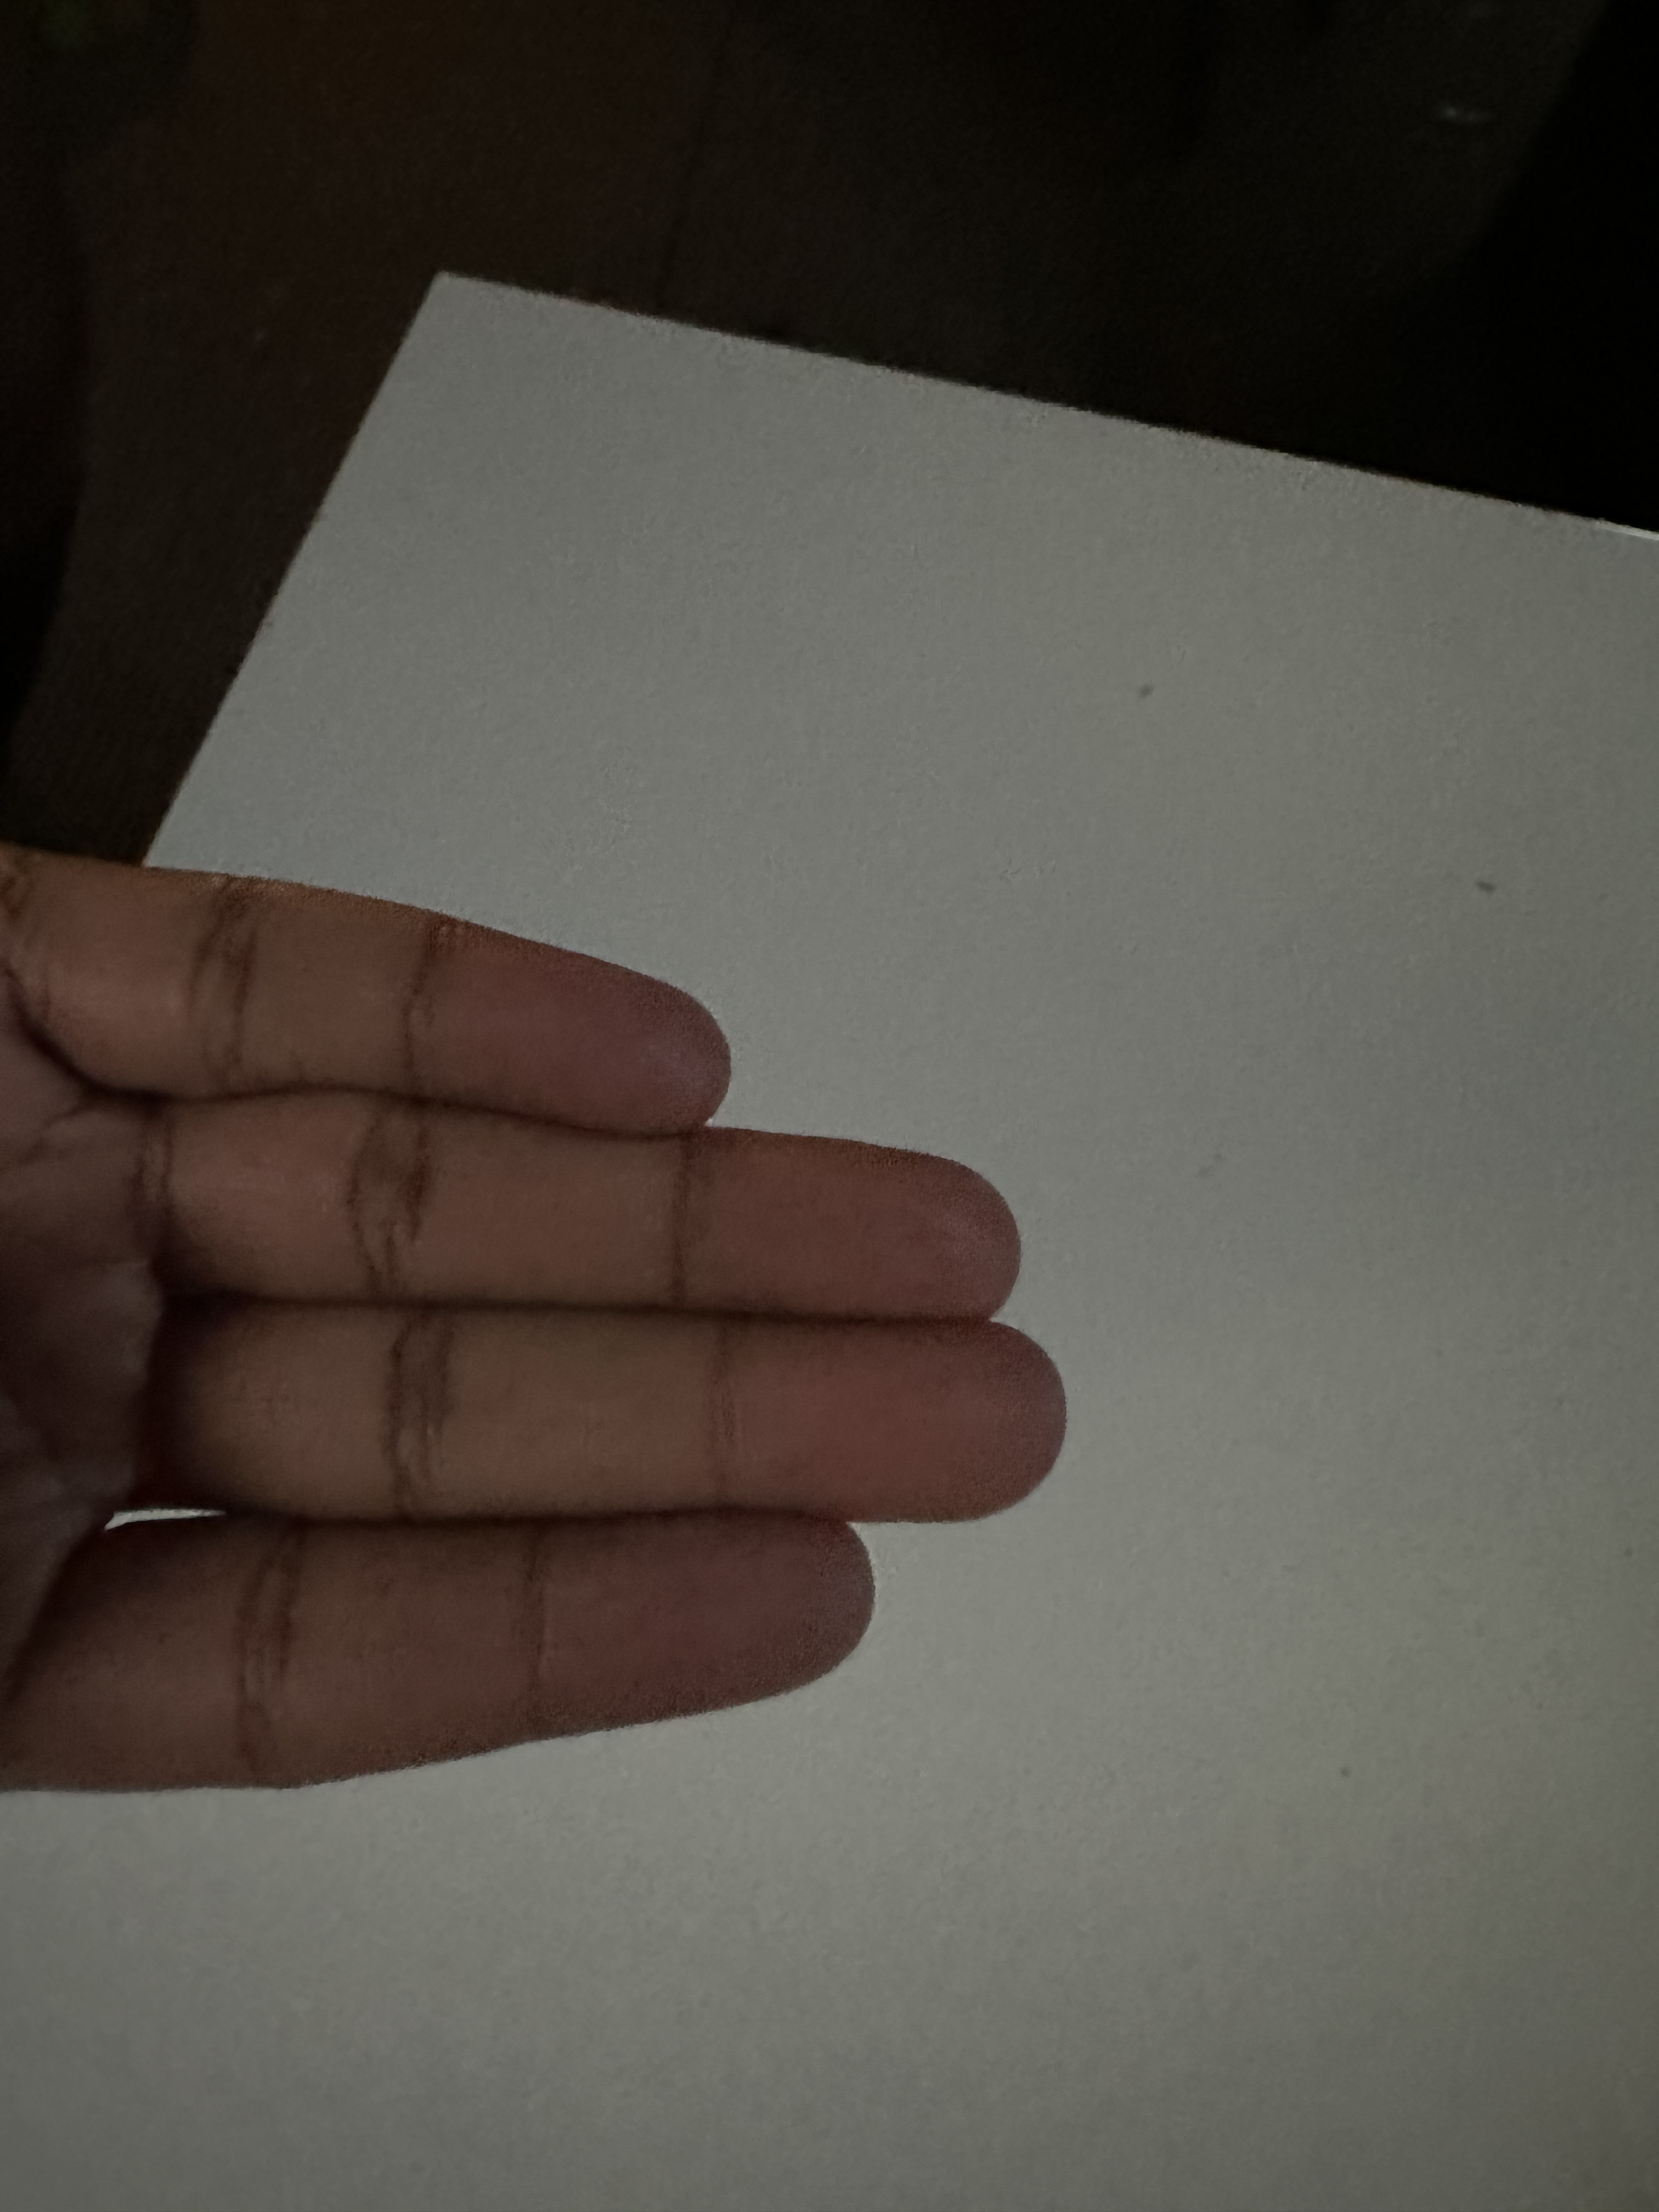finger: (706, 1320, 1117, 1522), (676, 1129, 1072, 1322), (542, 1517, 892, 1731), (410, 930, 744, 1130)
